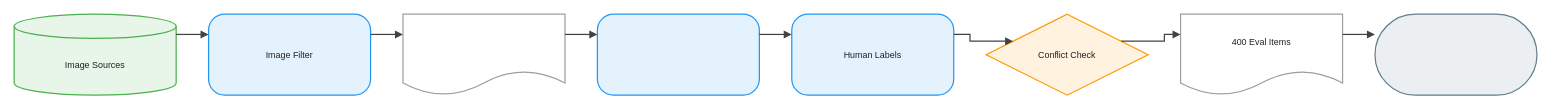
This 1552x110 diagram has some shape labels left out. Each missing label, with the centre of its shape:
32 Constraints: the point at 678,54
Hybrid Score: the point at 1455,54
Task Gen: the point at 483,54
